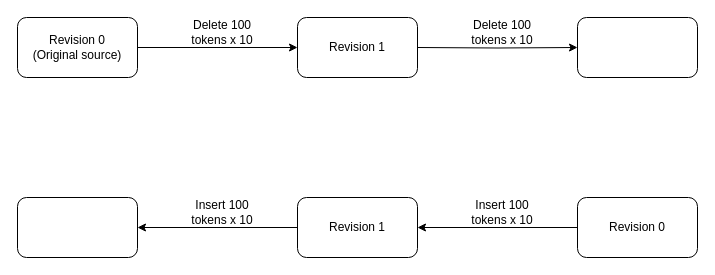
This 715x275 diagram has some shape labels left out. Here are the shapes that lost their labels. From the top down, the centre of each, then its label:
the point at 637,47: Revision 2
the point at 77,227: Revision 2 (Original source)
